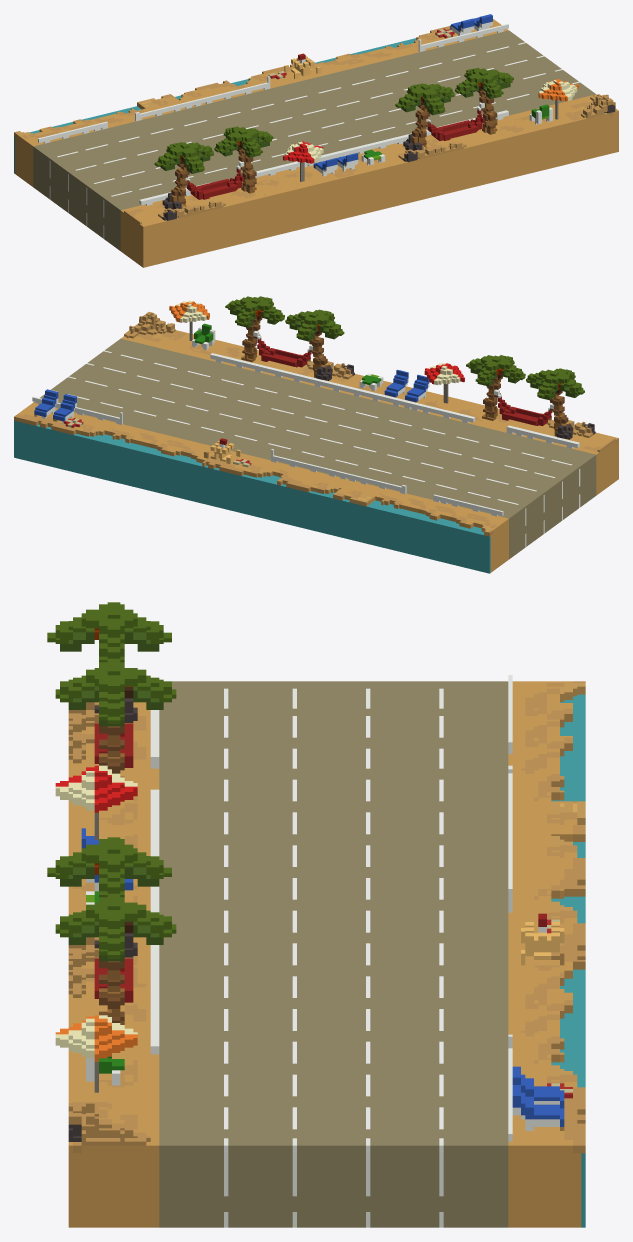
Rendered from Mapa_Playa_2.obj.
The picture shows the model from 3 angles, top to bottom: view 1: azimuth 30°, elevation 25°; view 2: azimuth 150°, elevation 25°; view 3: azimuth 270°, elevation 25°; orthographic projection. The views are drawn at different scales.
Bounding box in the file's own units: 25.5 × 5.2 × 12.5.
1 material, 1 textured.
